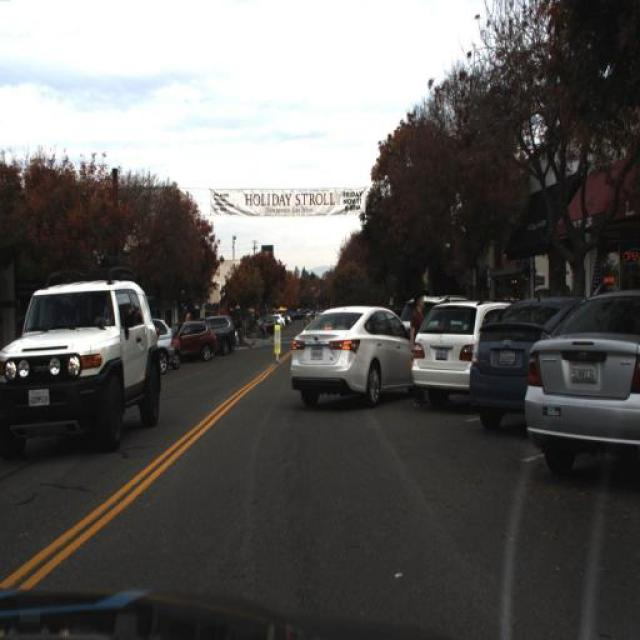car: (1, 261, 163, 454), (524, 286, 638, 477), (464, 283, 577, 442), (469, 290, 569, 426), (289, 306, 419, 402), (409, 296, 515, 392), (411, 295, 501, 406), (148, 310, 176, 376), (173, 321, 214, 364), (208, 314, 236, 354)
trafficLight: (407, 289, 432, 411), (8, 314, 22, 358)
